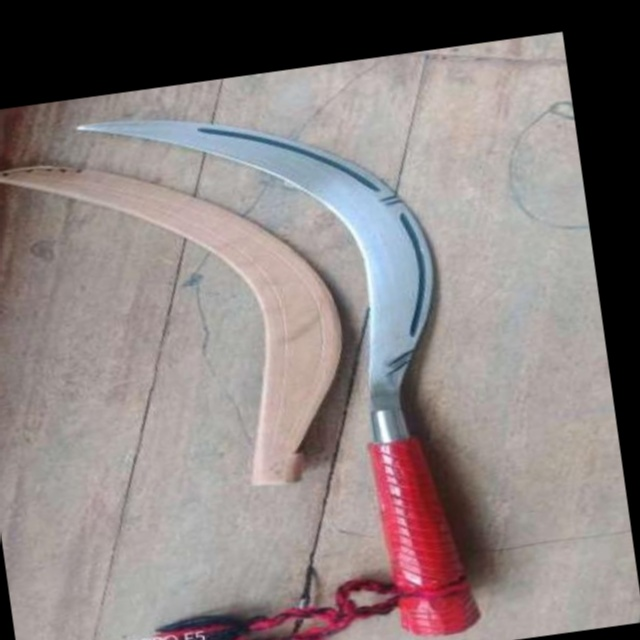Sharp-Object: (72, 71, 503, 640)
